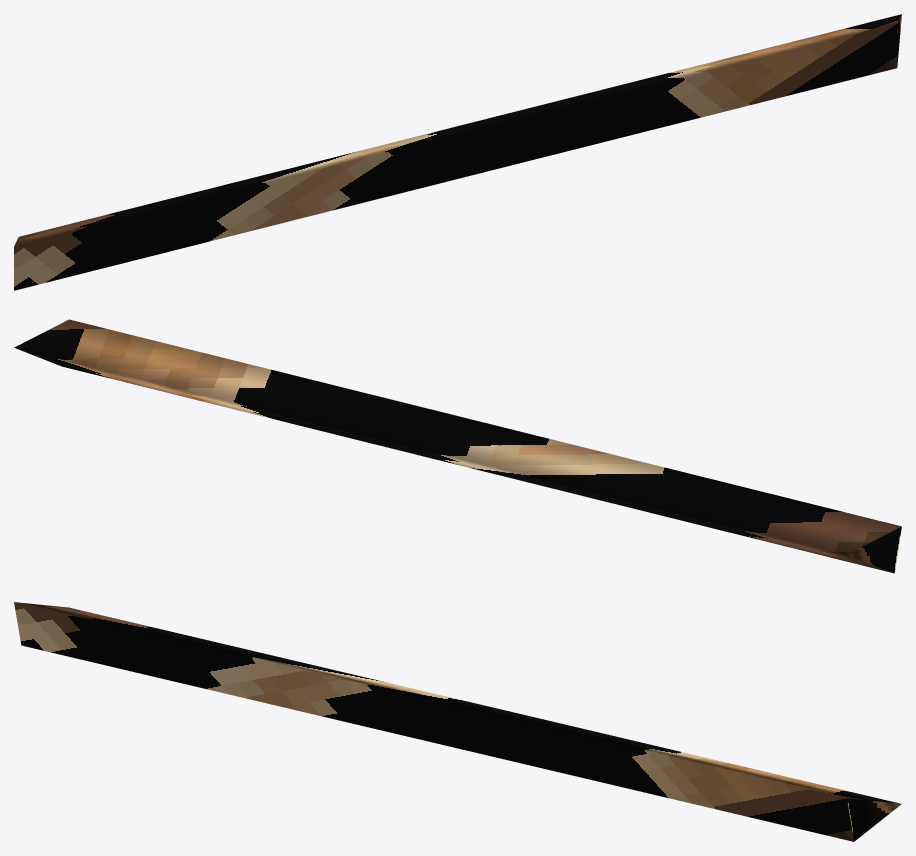
Rendered from 2758nikomi.gltf.
The picture shows the model from 3 angles, top to bottom: view 1: azimuth 30°, elevation 25°; view 2: azimuth 150°, elevation 25°; view 3: azimuth 330°, elevation 25°; orthographic projection. The views are drawn at different scales.
Visible parts, largest first — view 1: 2758nikomi; view 2: 2758nikomi; view 3: 2758nikomi.
Part boxes in pixels (left/top/right/bottom): 2758nikomi: left=14, top=14, right=901, bottom=290; 2758nikomi: left=14, top=319, right=901, bottom=573; 2758nikomi: left=14, top=602, right=901, bottom=841.
Bounding box in the file's own units: 2.4 × 0.1345 × 0.1301.
1 material, 1 textured.
